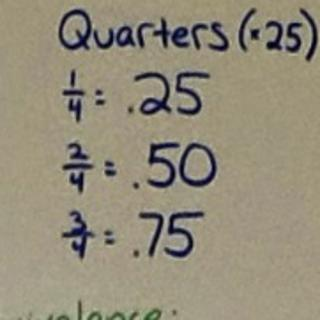.: (123, 104, 136, 116), (131, 247, 141, 262), (131, 178, 140, 194)
0: (178, 138, 219, 189)
2: (132, 66, 174, 122)
5: (165, 210, 209, 263), (175, 64, 212, 121), (144, 137, 178, 192)
7: (136, 209, 165, 262)
